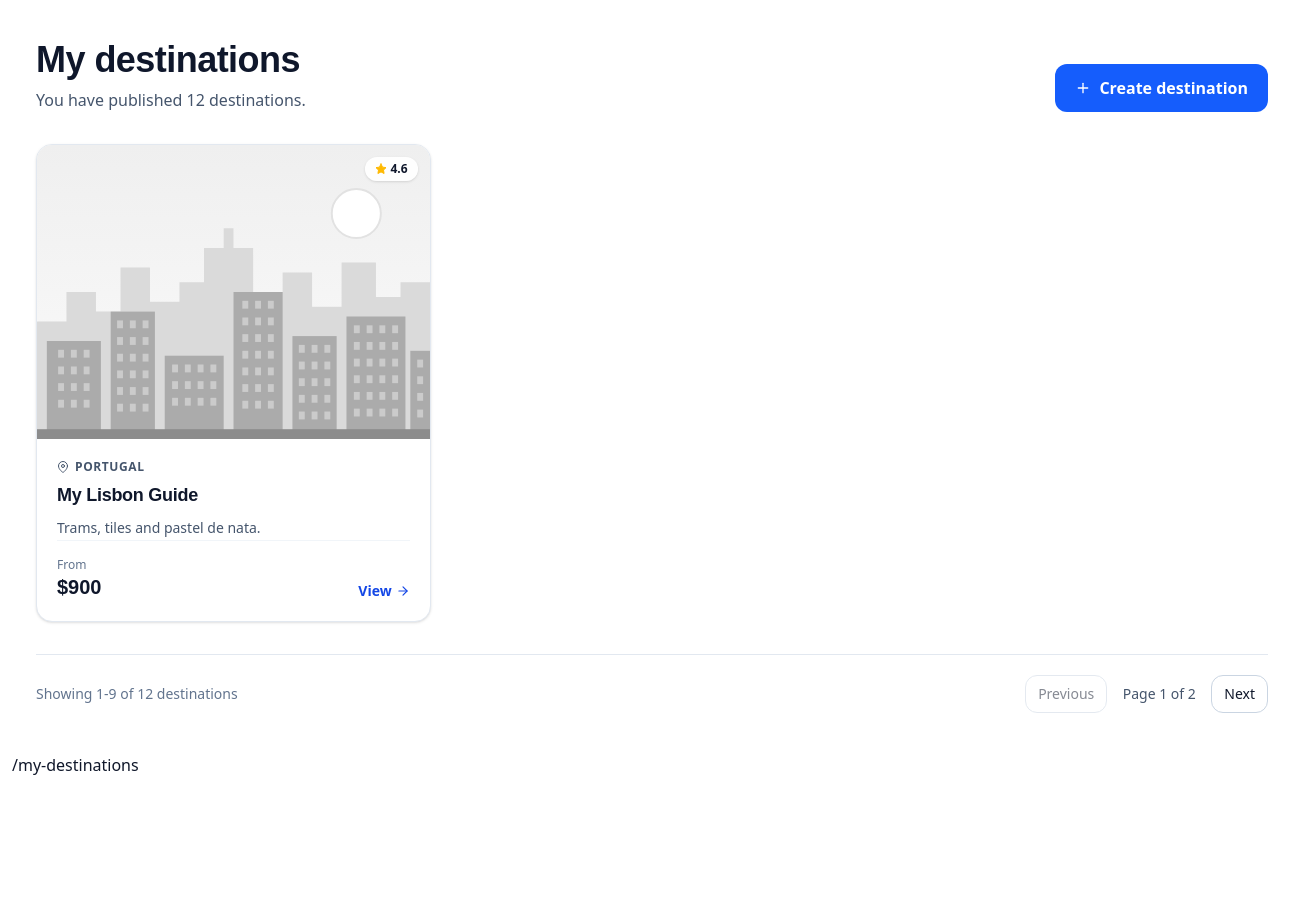
Scenario: MyDestinations › keeps the page in the URL
Click the button with aria-label "Next page".
click(1240, 694)  # box [1211, 675, 1268, 713]
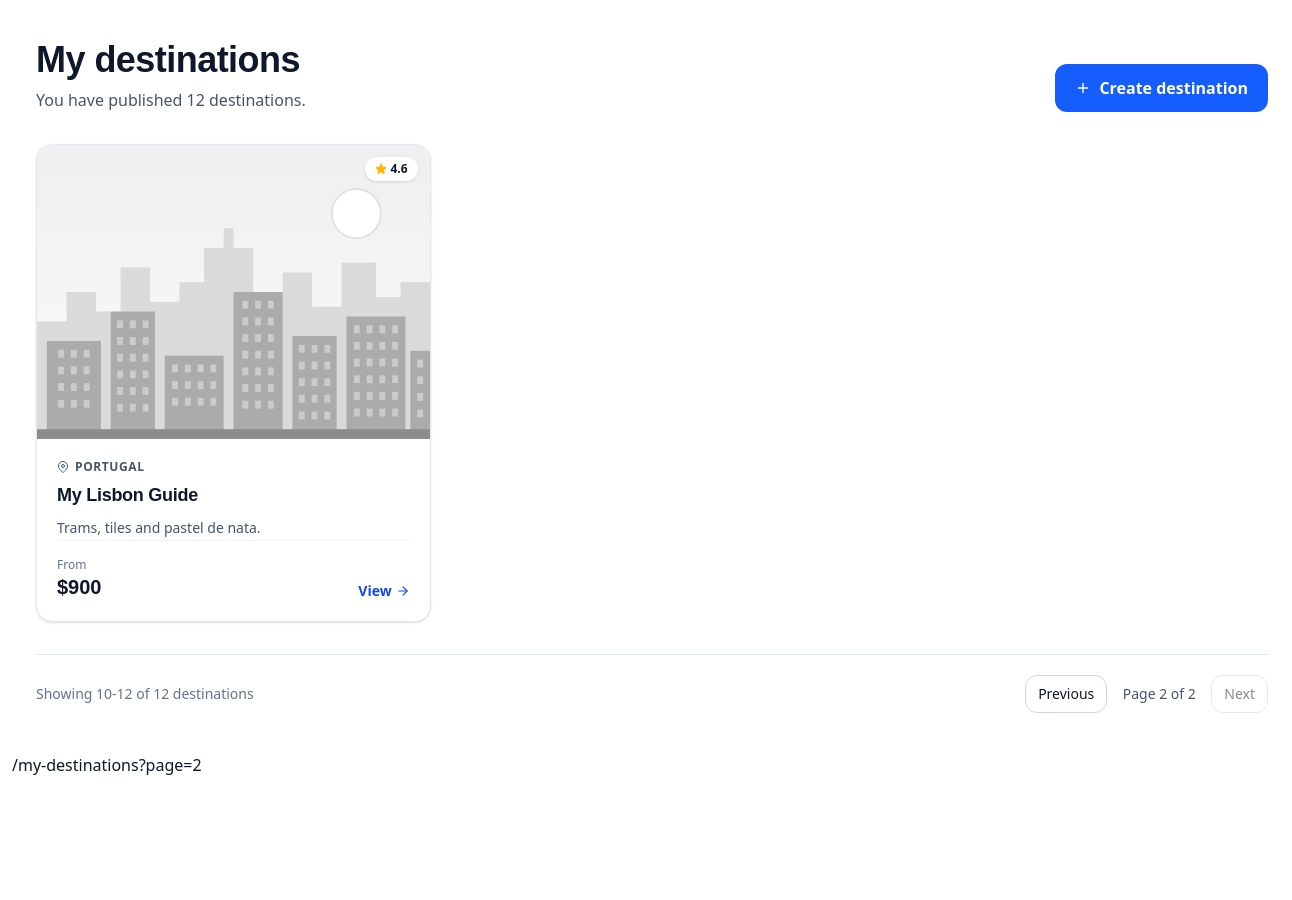
Result: the text with test id "location" reads "/my-destinations?page=2" at [12, 754, 202, 776]
